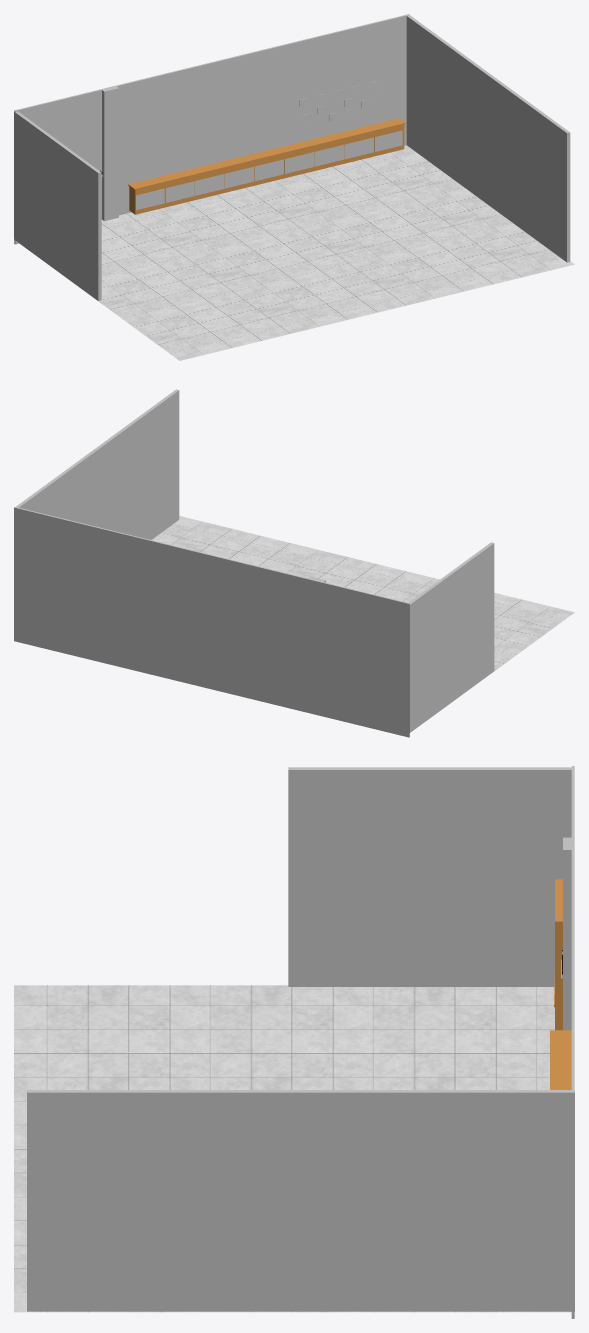
The model's file is casa_teste.gltf.
The picture shows the model from 3 angles, top to bottom: view 1: azimuth 30°, elevation 25°; view 2: azimuth 150°, elevation 25°; view 3: azimuth 270°, elevation 25°; orthographic projection. The views are drawn at different scales.
Visible parts, largest first — view 1: Plane, Cube.004, Cube_001, Cube_002, Cube_005; view 2: Cube.004, Cube_001, Plane, Cube_002; view 3: Cube_001, Cube_002, Plane, Cube.004, Cube_005, Cube_041.
Part boxes in pixels (box(x1,y1,x2,y2)): Plane: box(16, 145, 574, 360); Cube.004: box(14, 14, 409, 244); Cube_001: box(406, 15, 570, 262); Cube_002: box(14, 111, 101, 300); Cube_005: box(128, 118, 405, 214); Cube.004: box(14, 507, 409, 737); Cube_001: box(14, 389, 179, 638); Plane: box(152, 516, 574, 731); Cube_002: box(408, 542, 494, 732); Cube_001: box(27, 1090, 574, 1311); Cube_002: box(288, 767, 571, 986); Plane: box(14, 985, 570, 1312); Cube.004: box(563, 766, 574, 1318); Cube_005: box(550, 1030, 571, 1089); Cube_041: box(554, 879, 562, 1030).
Size of the model in its own units: 13.18 by 4.25 by 9.54.
Materials: 24 (1 with a texture image).
